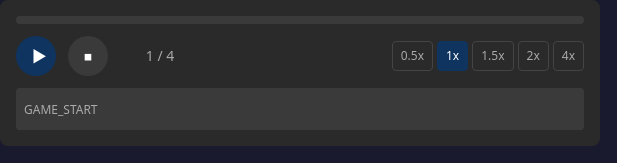
Test case: ReplayPlayer › 播放控制 › should toggle play/pause
Click the button named "播放". click: x=36, y=56
box: [16,36,56,76]
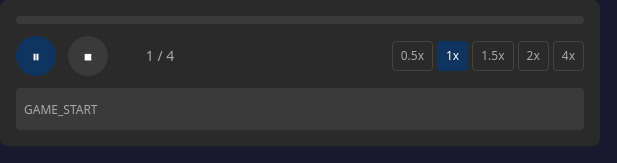
Now the button named "暫停" is shown
Click the button named "暫停". click: x=36, y=56
box: [16,36,56,76]
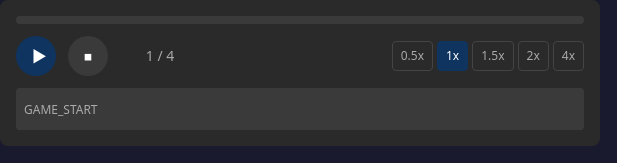
Now the button named "播放" is shown, box [16,36,56,76]
